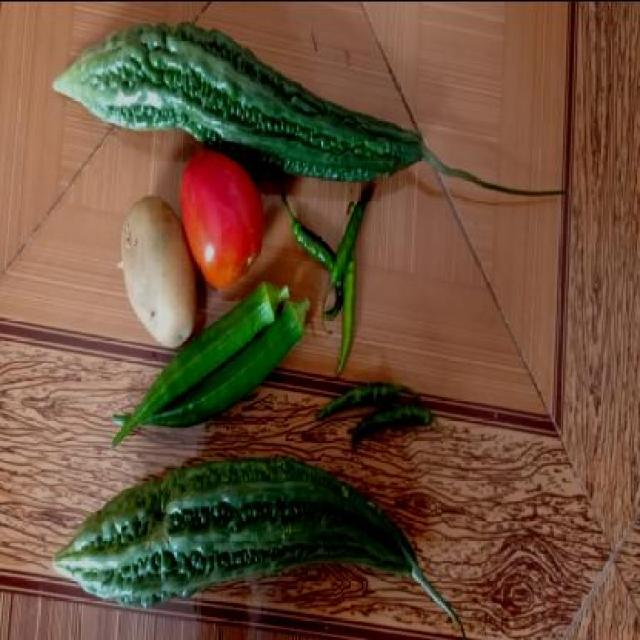Bitter melon: (46, 440, 480, 618), (50, 17, 432, 180)
Green Chili: (312, 354, 445, 452), (320, 182, 378, 336)
Lady finger: (131, 277, 311, 448)
Potato: (111, 192, 197, 365)
Tomato: (175, 143, 263, 288)
